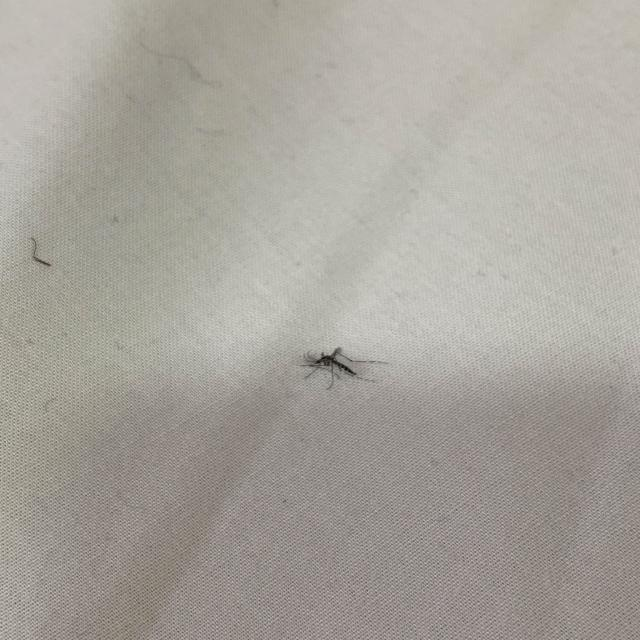albopictus: (291, 341, 388, 394)
